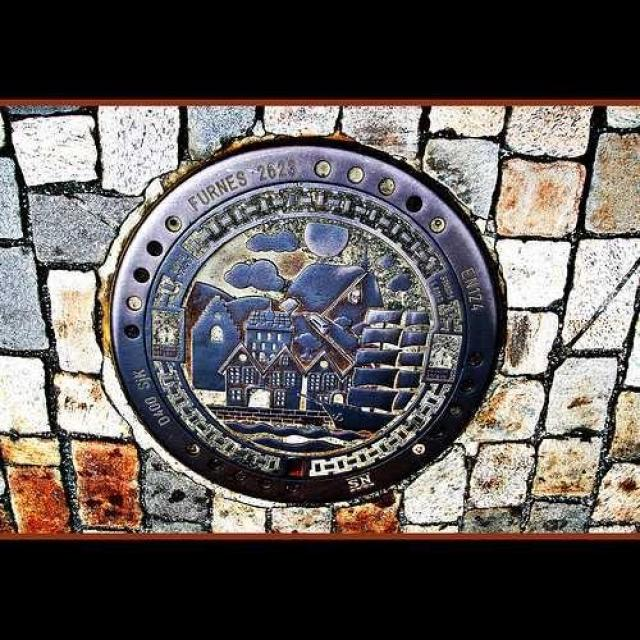manhole: (110, 145, 502, 502)
